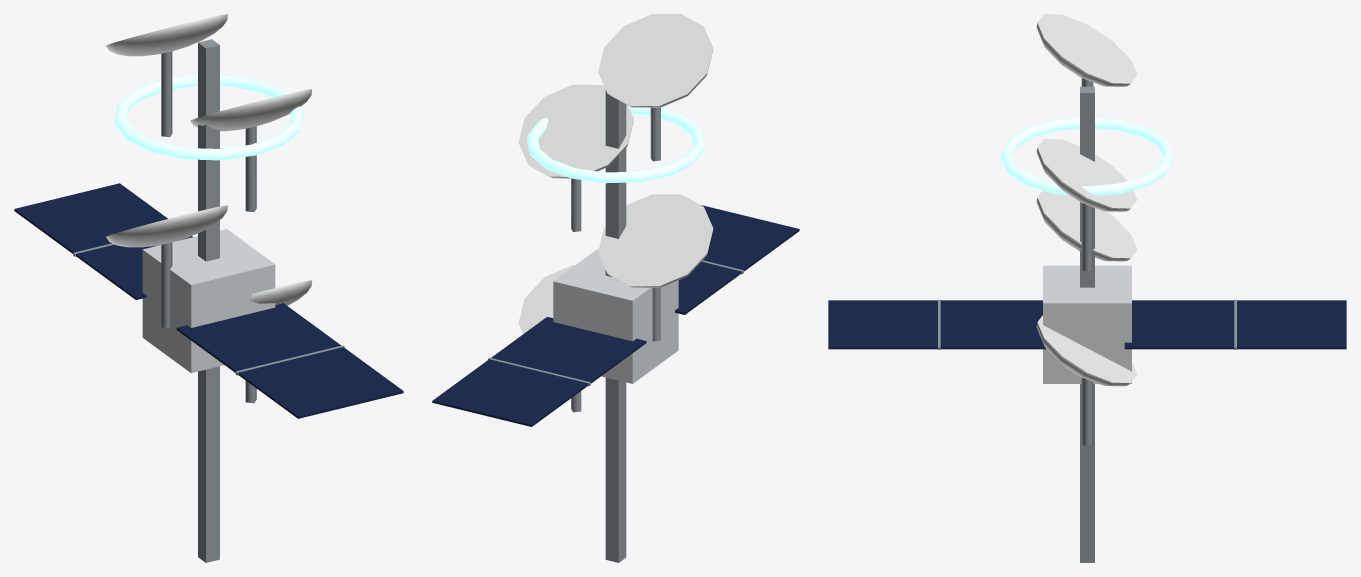
File: space_orbital_relay_t2.glb
3 views of the same model, side by side, from view 1: azimuth 30°, elevation 25°; view 2: azimuth 150°, elevation 25°; view 3: azimuth 270°, elevation 25° (orthographic). The views are drawn at different scales.
Parts seen in each view (by area): view 1: body, solar_0, solar_1, antenna_3, antenna_1, antenna_2, antenna_0; view 2: body, solar_1, antenna_3, antenna_1, antenna_2, solar_0, antenna_0; view 3: body, solar_1, solar_0, antenna_2, antenna_3, antenna_0, antenna_1.
Part boxes in pixels (box(x1,y1,x2,y2)): body: box(114, 39, 303, 562); solar_0: box(176, 303, 403, 418); solar_1: box(14, 183, 192, 299); antenna_3: box(106, 14, 227, 137); antenna_1: box(106, 205, 227, 328); antenna_2: box(190, 89, 312, 212); antenna_0: box(245, 280, 312, 403); body: box(527, 90, 704, 562); solar_1: box(432, 317, 646, 426); antenna_3: box(598, 14, 713, 161); antenna_1: box(598, 194, 713, 341); antenna_2: box(518, 84, 633, 231); solar_0: box(675, 205, 799, 314); antenna_0: box(518, 265, 581, 412); body: box(1000, 86, 1174, 562); solar_1: box(1124, 299, 1346, 349); solar_0: box(828, 299, 1046, 349); antenna_2: box(1036, 139, 1137, 271); antenna_3: box(1036, 14, 1137, 86); antenna_0: box(1036, 315, 1137, 446); antenna_1: box(1036, 190, 1137, 261).
Size of what is drawn, in the model's own units: 5.52 by 15.44 by 14.
